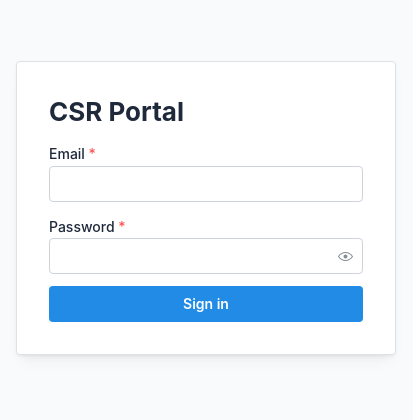
Scenario: LoginPage › says to wait when the account is locked out on a 429
Type "csr@example.com" into the field labelled "Email *" at point(206, 184), box x1=49 y1=166 x2=363 y2=202
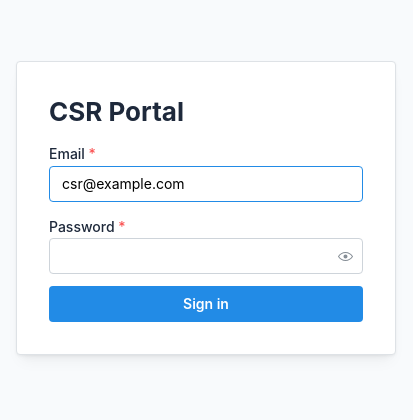
Type "wrong" into the password field labelled "Password *" at point(206, 256), box x1=50 y1=239 x2=362 y2=273
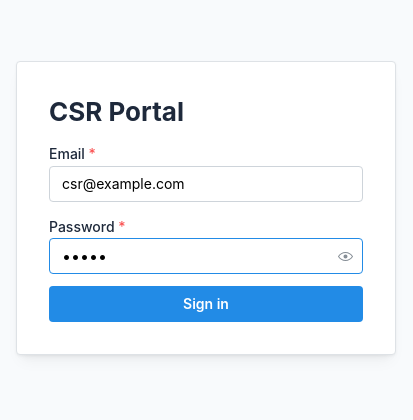
Click the button "Sign in" at point(206, 304), box x1=49 y1=286 x2=363 y2=322
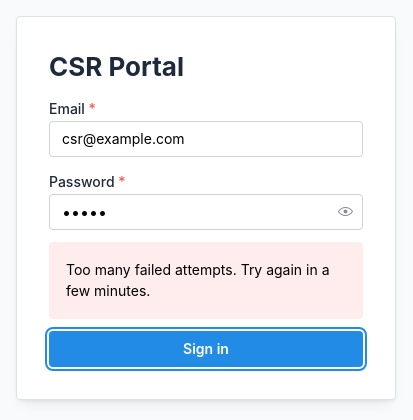
Now the message shows "Too many failed attempts", box x1=66 y1=261 x2=330 y2=299
